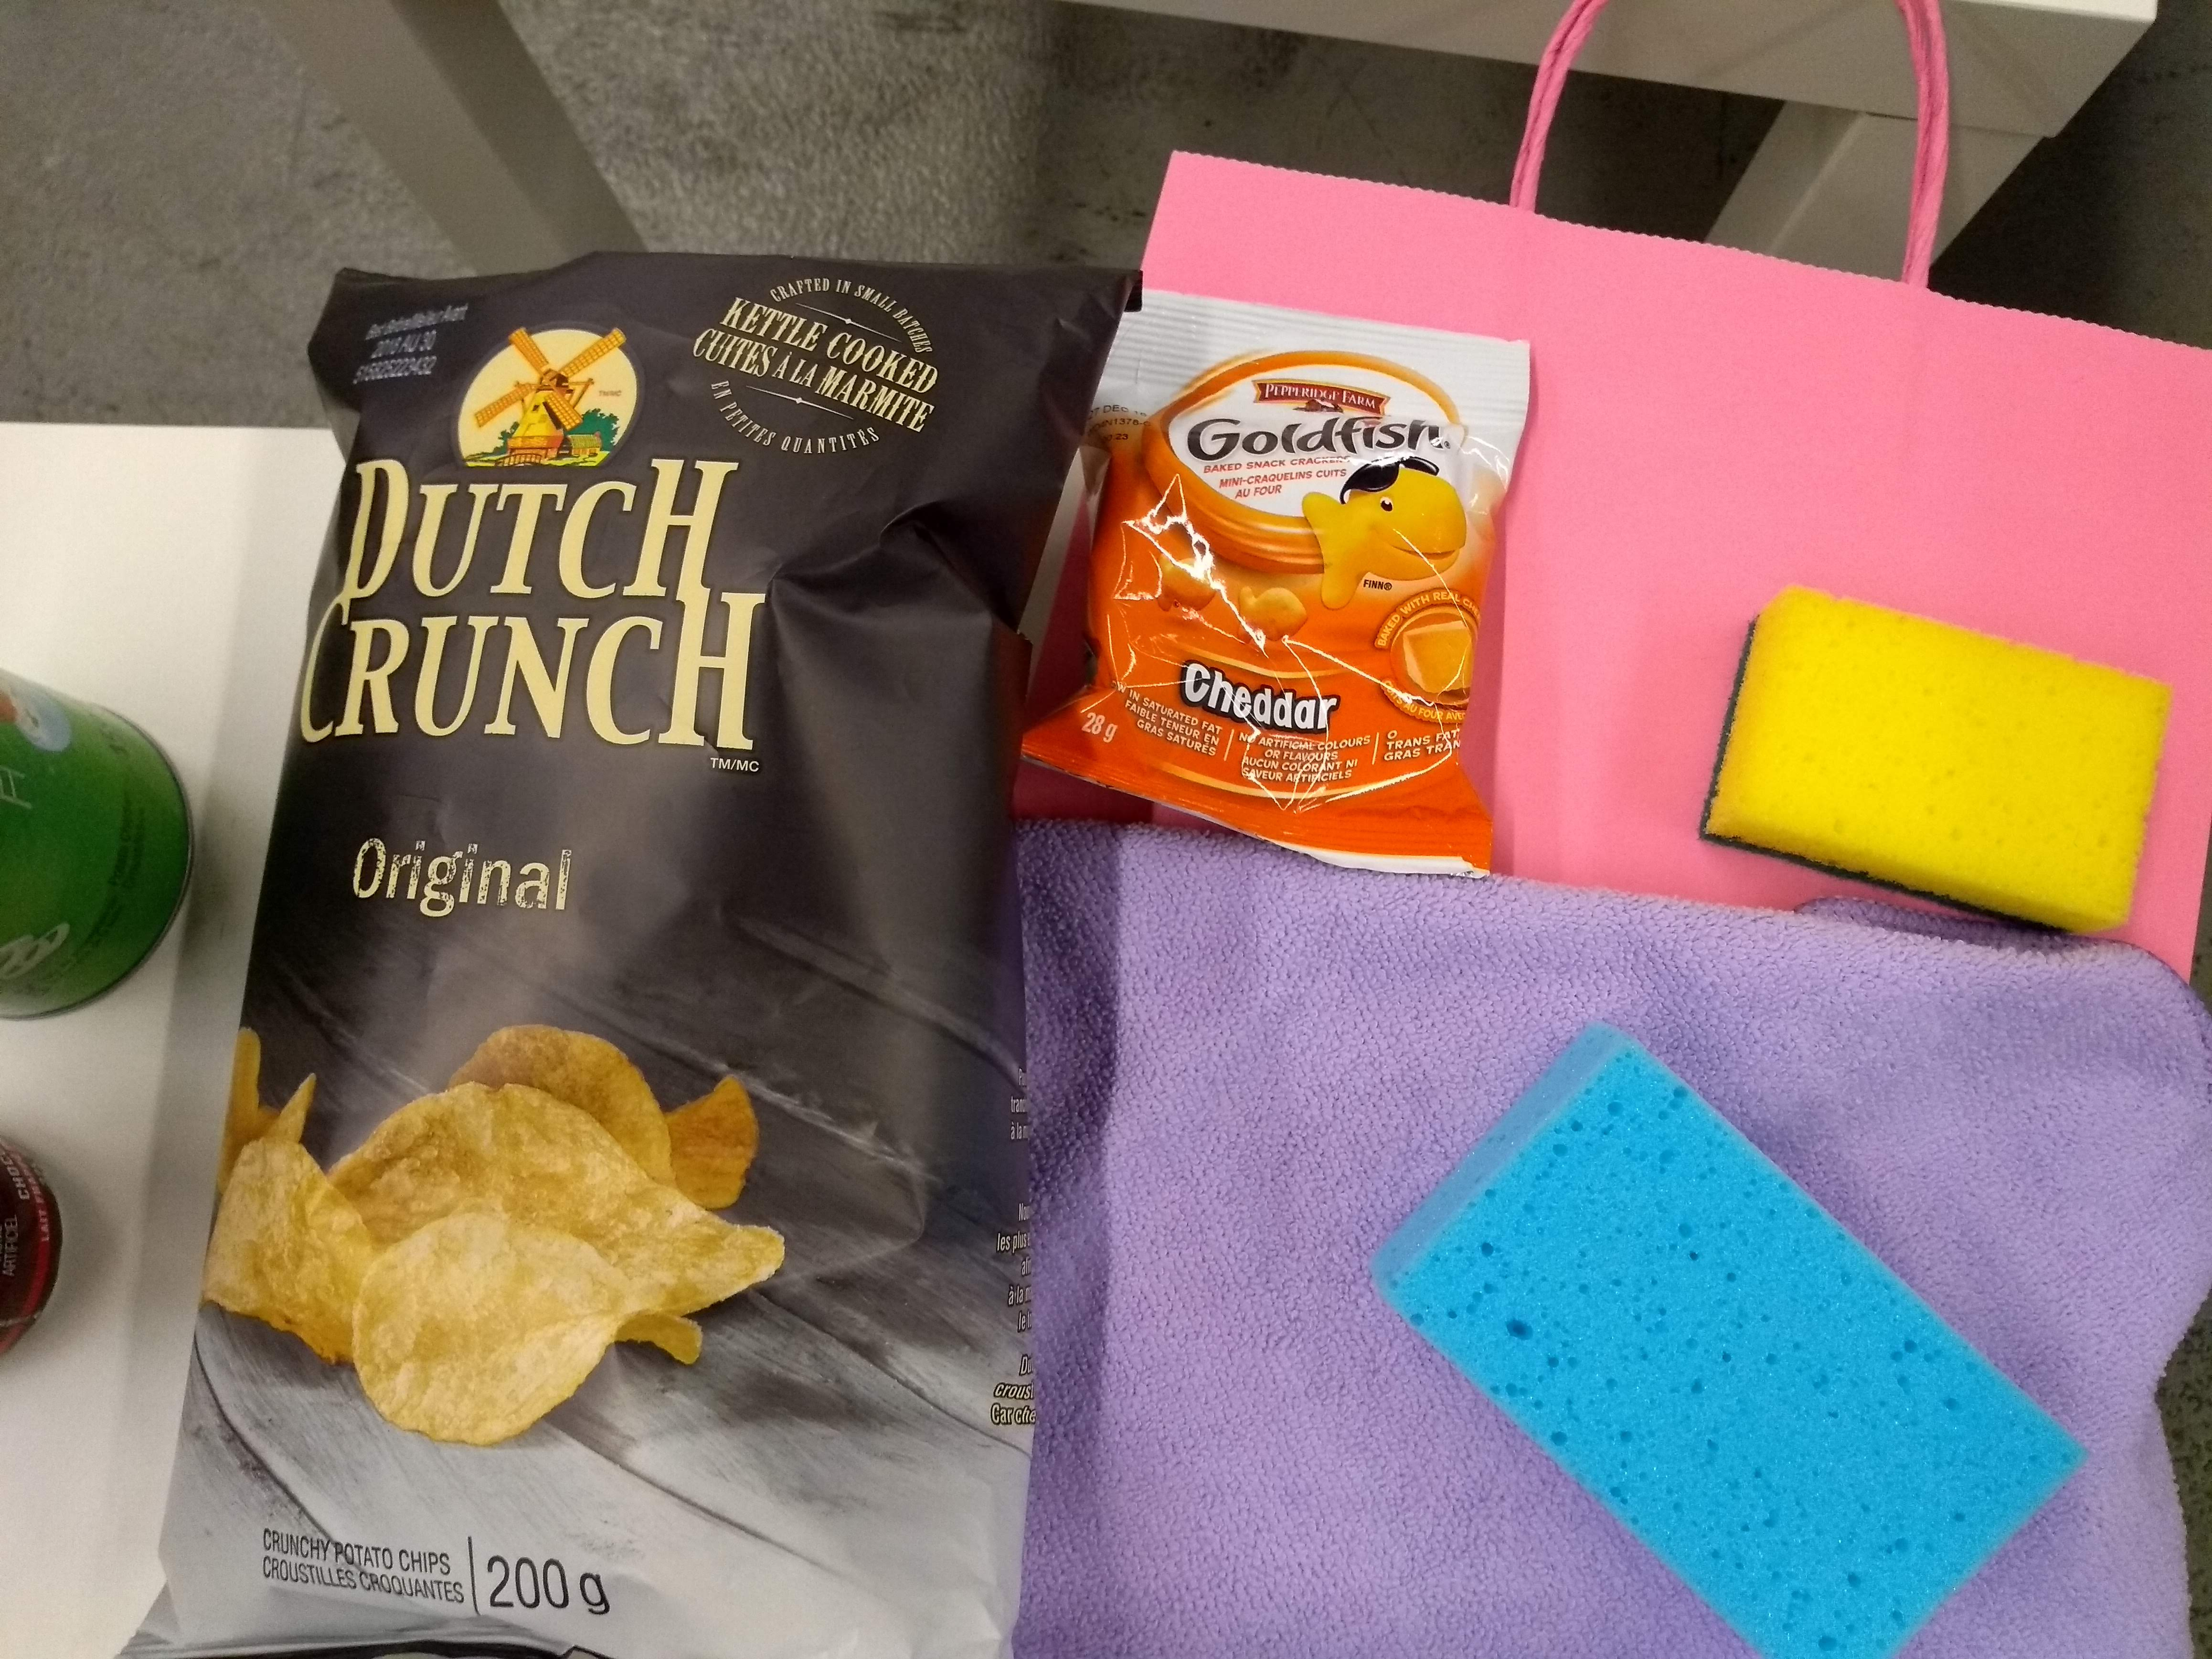crackers: (1001, 286, 1554, 889)
potato_chips: (122, 258, 1162, 1659)
scrubby: (1683, 582, 2175, 948)
sponge_opl: (1348, 1000, 2094, 1659)
